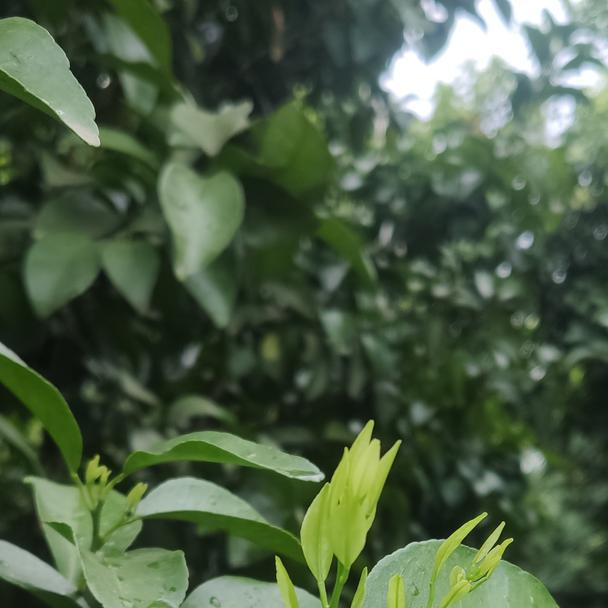shoot: (296, 437, 399, 590), (399, 512, 519, 608)
